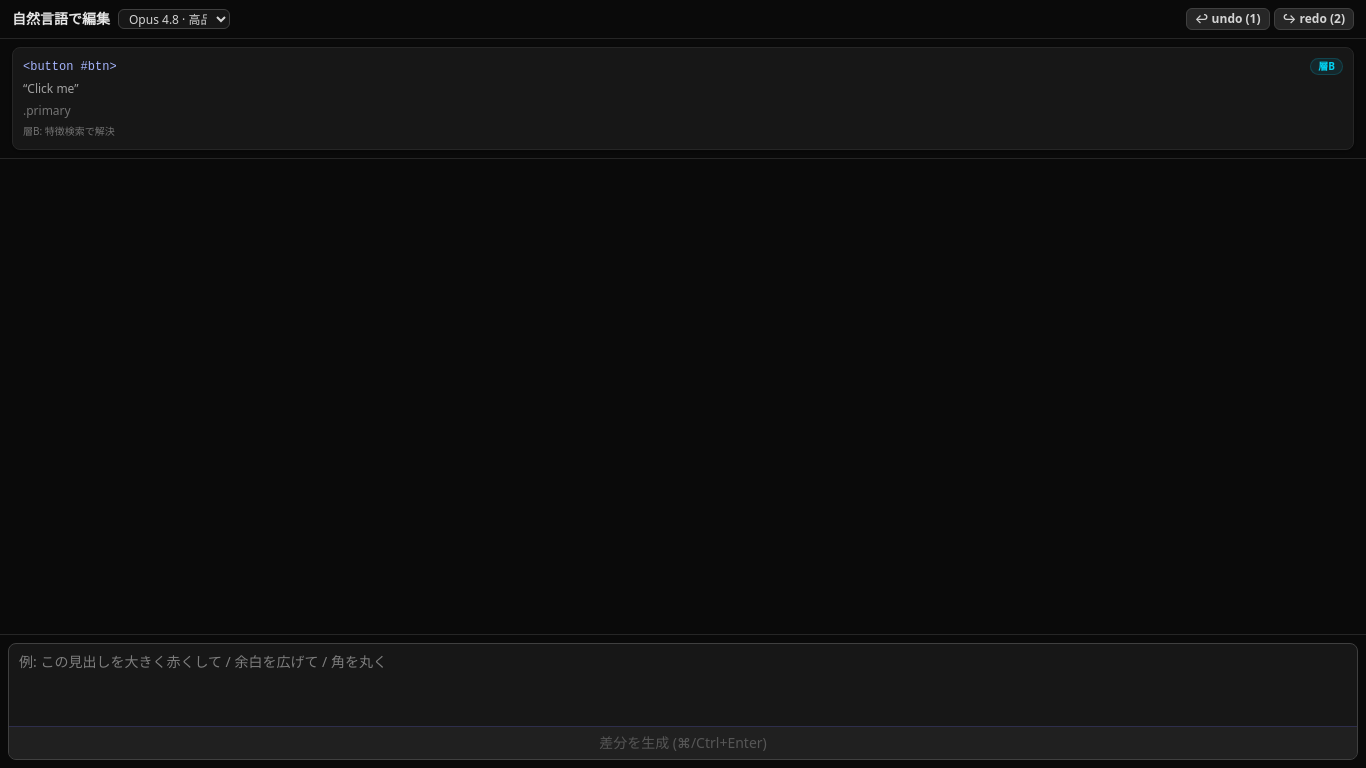
Scenario: Chat › redo ボタンクリックで api.redoEdit を呼び、サーバの深さを反映する
Click the button "↪ redo (2)". click: [1314, 19]
box: [1274, 8, 1354, 30]
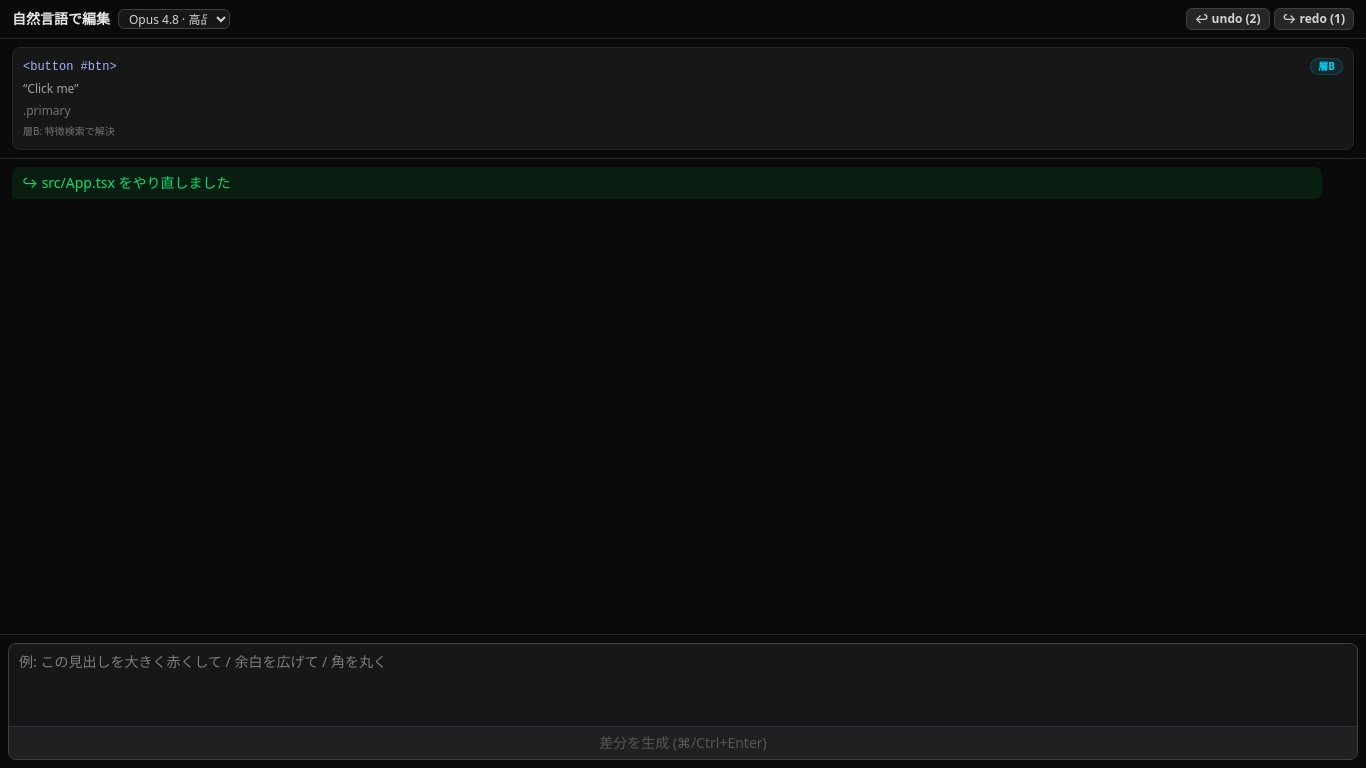
Check: the text "↪ src/App.tsx をやり直しました" is shown, box [12, 167, 1322, 199]
Check: the button "↩ undo (2)" is shown, box [1186, 8, 1270, 30]
Check: the button "↪ redo (1)" is shown, box [1274, 8, 1354, 30]
